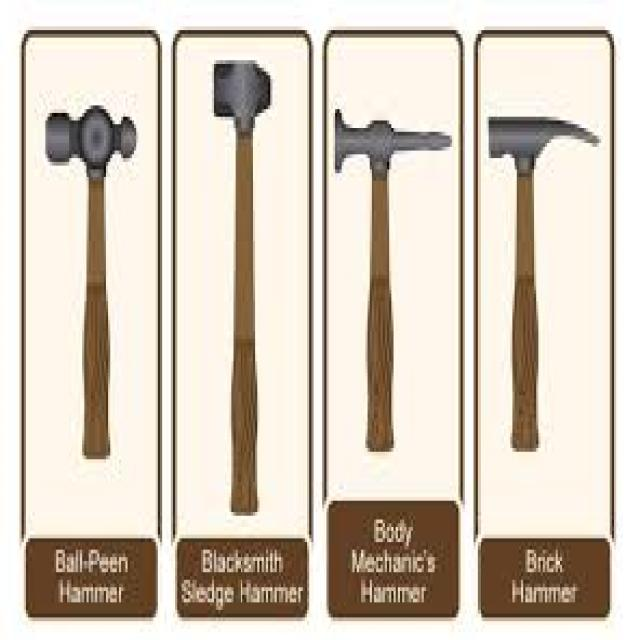hammer: (321, 81, 446, 505), (36, 55, 155, 492), (196, 38, 278, 433)
